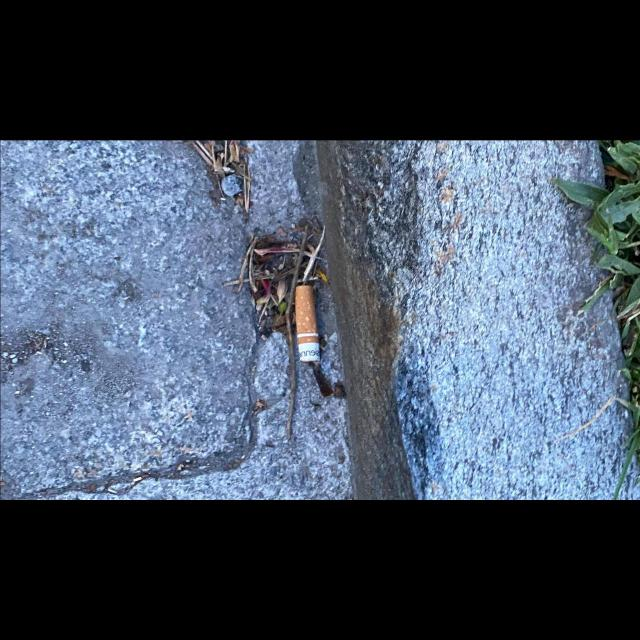cigarette: (294, 284, 321, 363)
